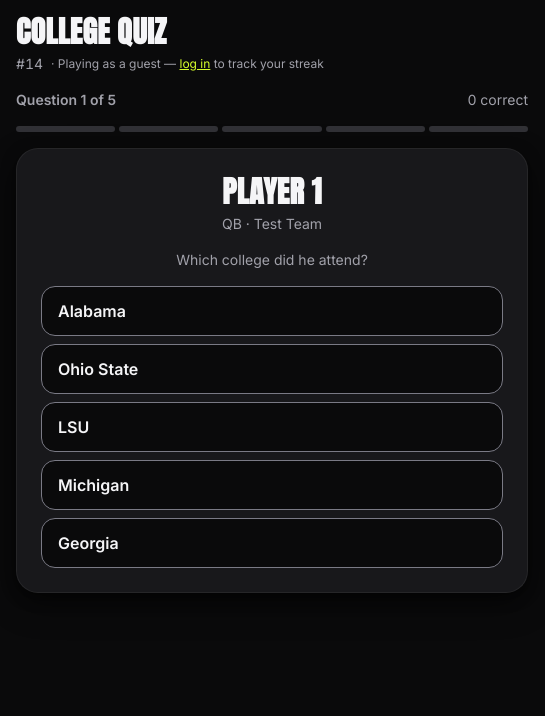
Test: CollegeQuizScreen — playing logged out › confirms a correct guess
Click the button "Alabama".
click(92, 311)  # box [41,286,503,336]
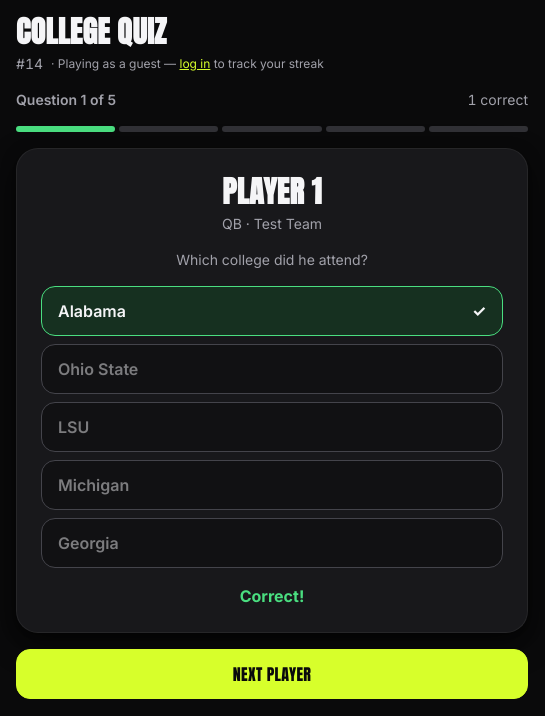
Now the text "Correct!" is shown, box [240,584,304,608]
